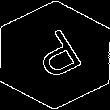P_SE: (23, 24, 87, 86)
